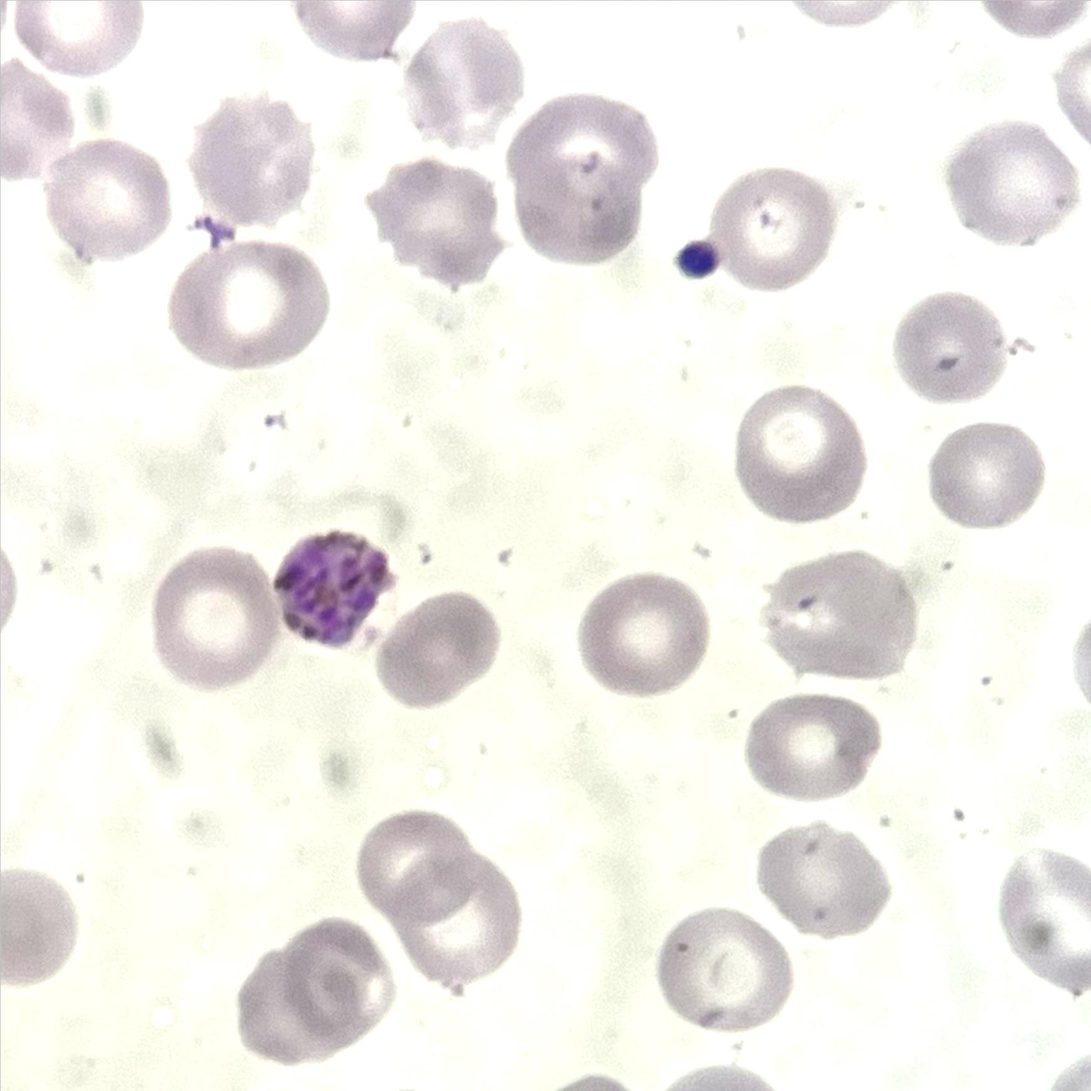Infected: (270, 529, 387, 653)
Uninfected: (167, 240, 326, 369), (763, 550, 915, 680), (150, 549, 279, 690), (734, 386, 867, 522), (366, 157, 506, 286), (186, 92, 317, 227), (945, 122, 1082, 248), (576, 572, 712, 696), (656, 908, 793, 1031), (512, 140, 639, 268), (43, 140, 172, 260), (397, 859, 520, 984), (756, 823, 888, 939), (404, 19, 525, 145), (504, 88, 651, 191), (374, 591, 501, 709), (278, 920, 397, 1045), (704, 170, 830, 287), (746, 693, 880, 799), (999, 848, 1091, 996), (236, 939, 347, 1061), (895, 287, 1005, 409), (359, 811, 470, 928), (925, 421, 1043, 529), (1, 868, 79, 986), (15, 1, 139, 75), (3, 60, 76, 179)
